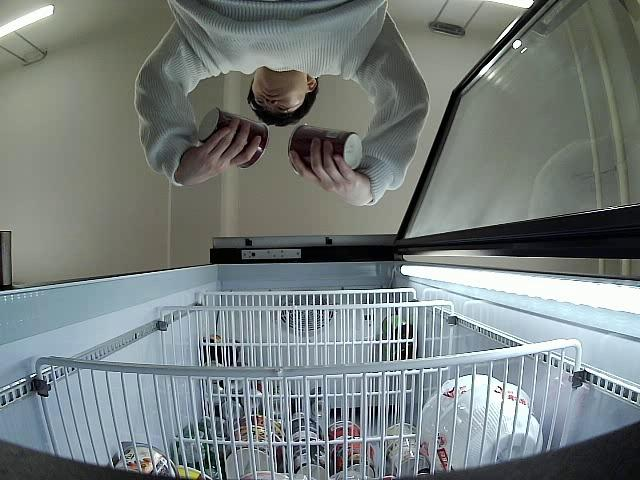00_hand: (289, 136, 369, 206), (187, 120, 261, 185)
06_nuguri_S: (199, 107, 269, 170), (289, 122, 364, 175)
